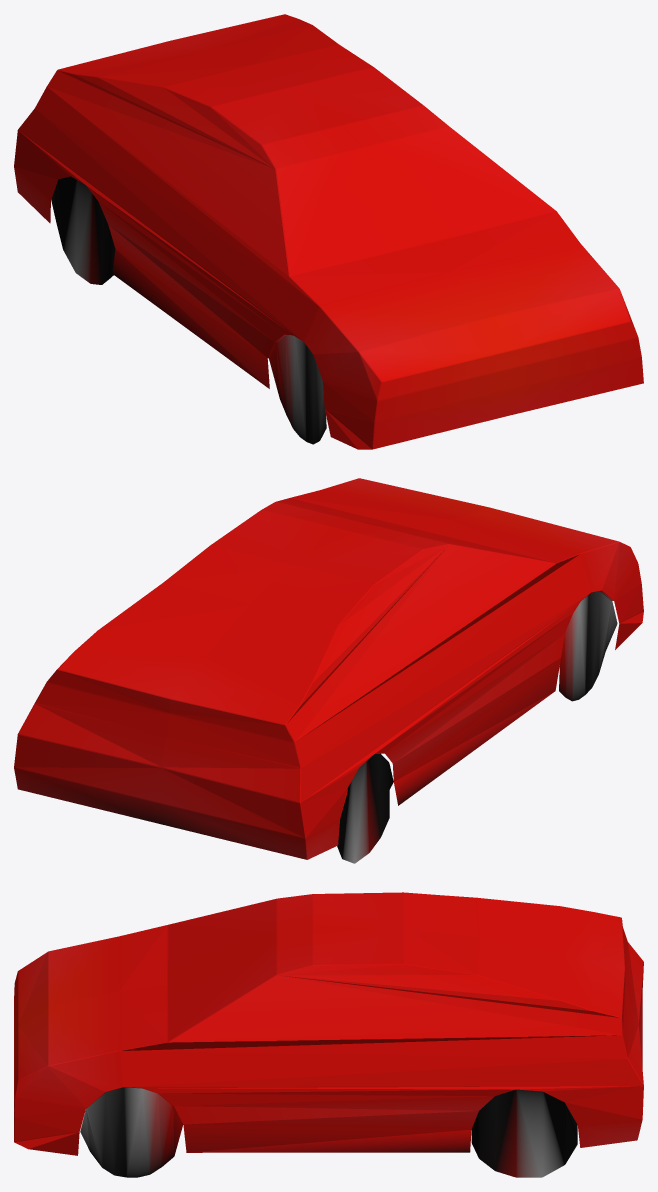
The model's file is obstacle.glb.
The picture shows the model from 3 angles, top to bottom: view 1: azimuth 30°, elevation 25°; view 2: azimuth 150°, elevation 25°; view 3: azimuth 270°, elevation 25°; orthographic projection. The views are drawn at different scales.
Visible parts, largest first — view 1: obstacle-mesh; view 2: obstacle-mesh; view 3: obstacle-mesh.
Part boxes in pixels (x1,y1,x2,y2): obstacle-mesh: (14, 14, 643, 449); obstacle-mesh: (14, 478, 643, 863); obstacle-mesh: (14, 892, 643, 1177).
Bounding box in the file's own units: 2.96 × 2 × 6.07.
